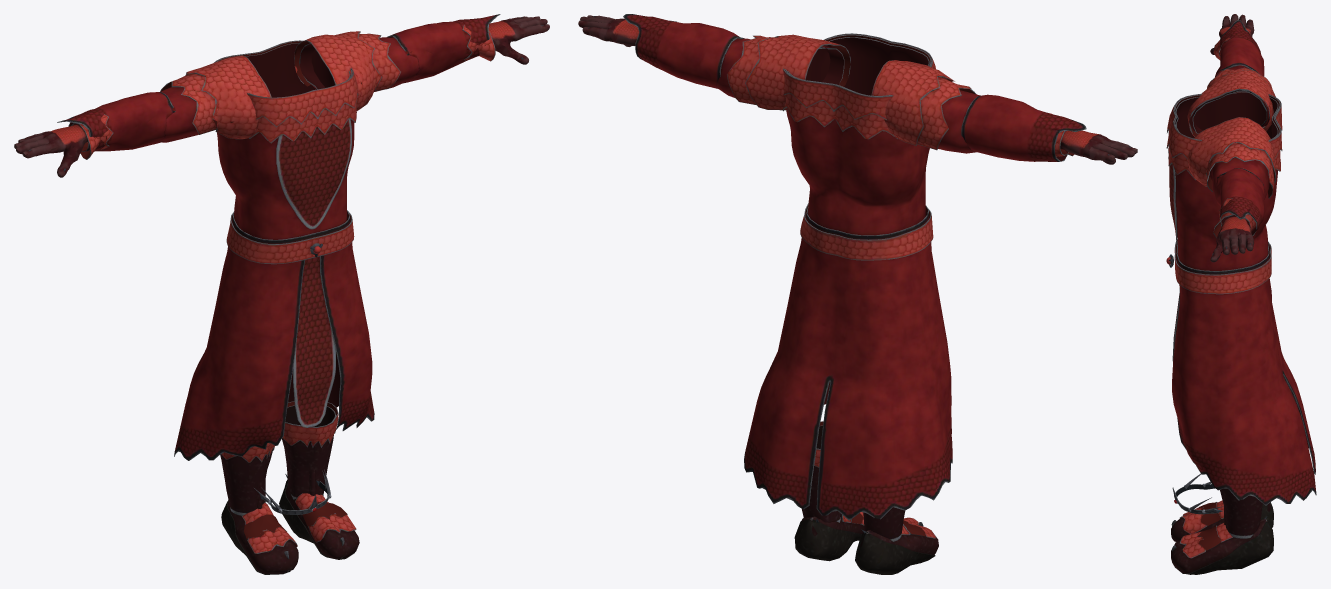
Rendered from mage_dragon.glb.
The picture shows the model from 3 angles, left to right: view 1: azimuth 30°, elevation 25°; view 2: azimuth 150°, elevation 25°; view 3: azimuth 270°, elevation 25°; orthographic projection. The views are drawn at different scales.
Visible parts, largest first — view 1: robe, feet, gloves; view 2: robe, feet, gloves; view 3: robe, feet, gloves, circlet.
Part boxes in pixels (x1,y1,x2,y2): robe: (57, 14, 500, 460); feet: (220, 401, 359, 574); gloves: (14, 16, 549, 177); robe: (623, 14, 1086, 520); feet: (794, 421, 938, 574); gloves: (578, 15, 1137, 164); robe: (1166, 20, 1316, 505); feet: (1171, 488, 1273, 574); gloves: (1210, 14, 1256, 262); circlet: (1172, 473, 1223, 514).
Bounding box in the file's own units: 1.8 × 1.61 × 0.4822.
4 materials, 4 textured.
